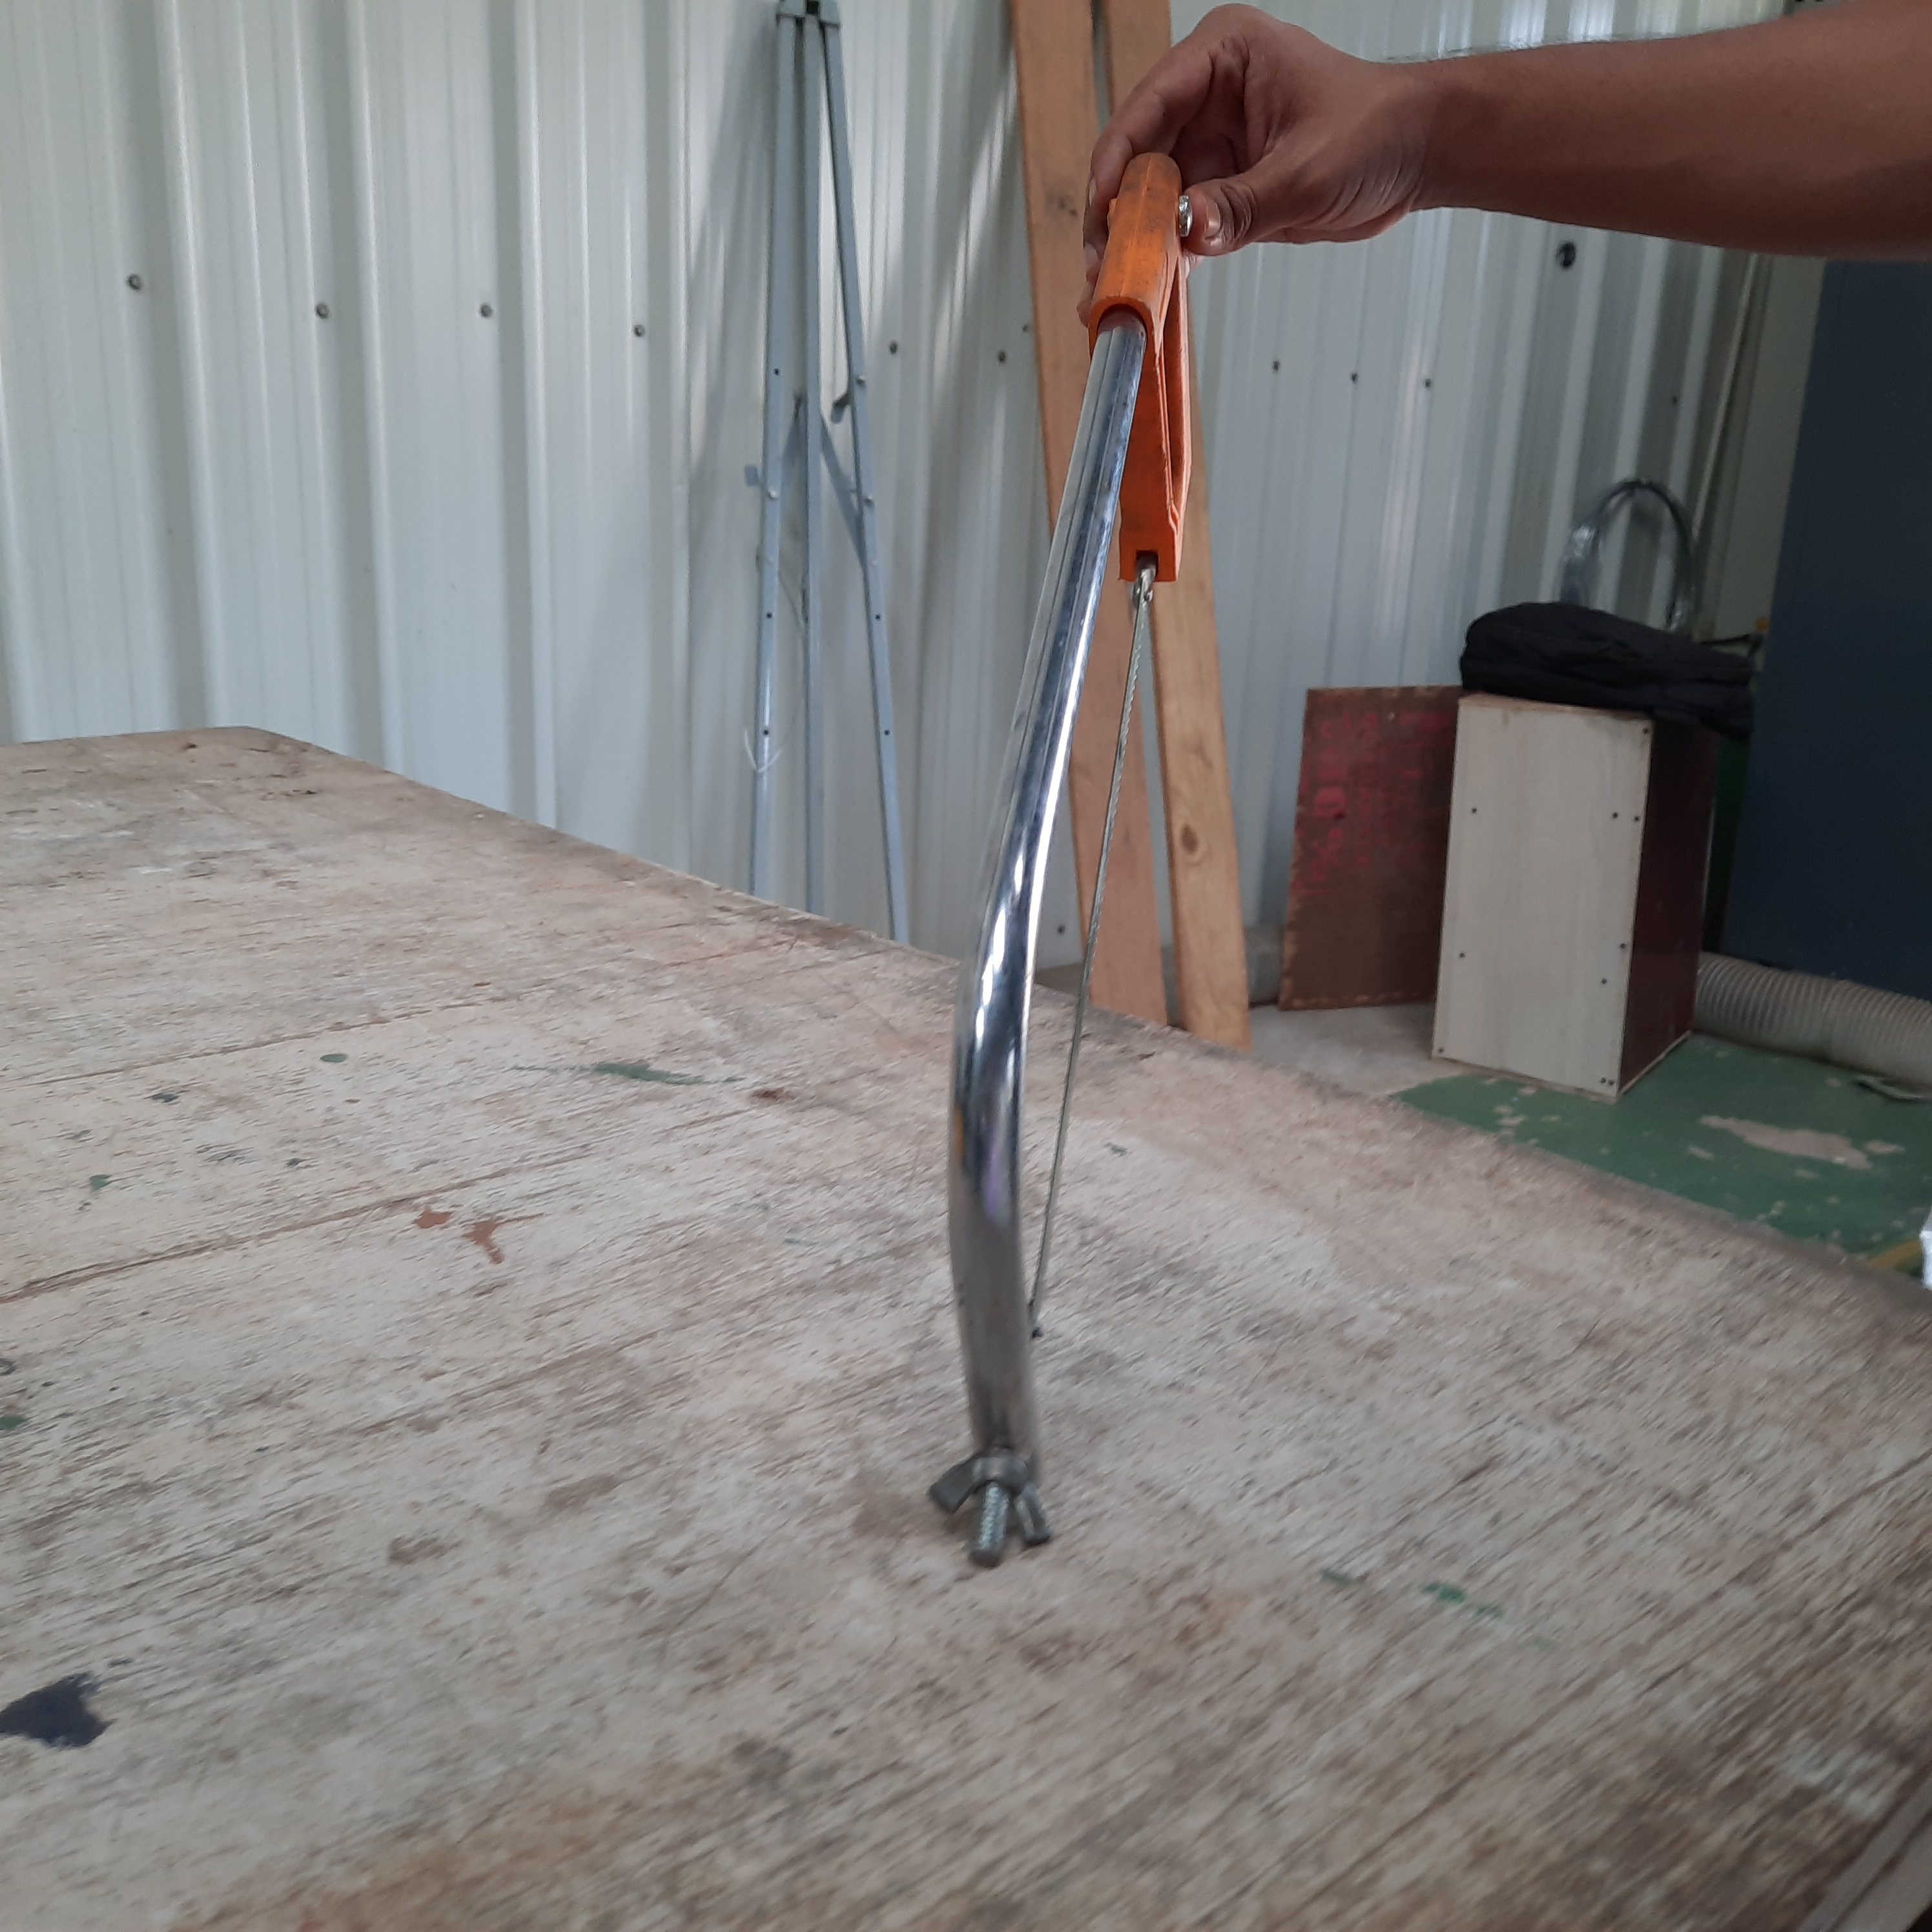Hexaframe: (916, 173, 1254, 1615)
